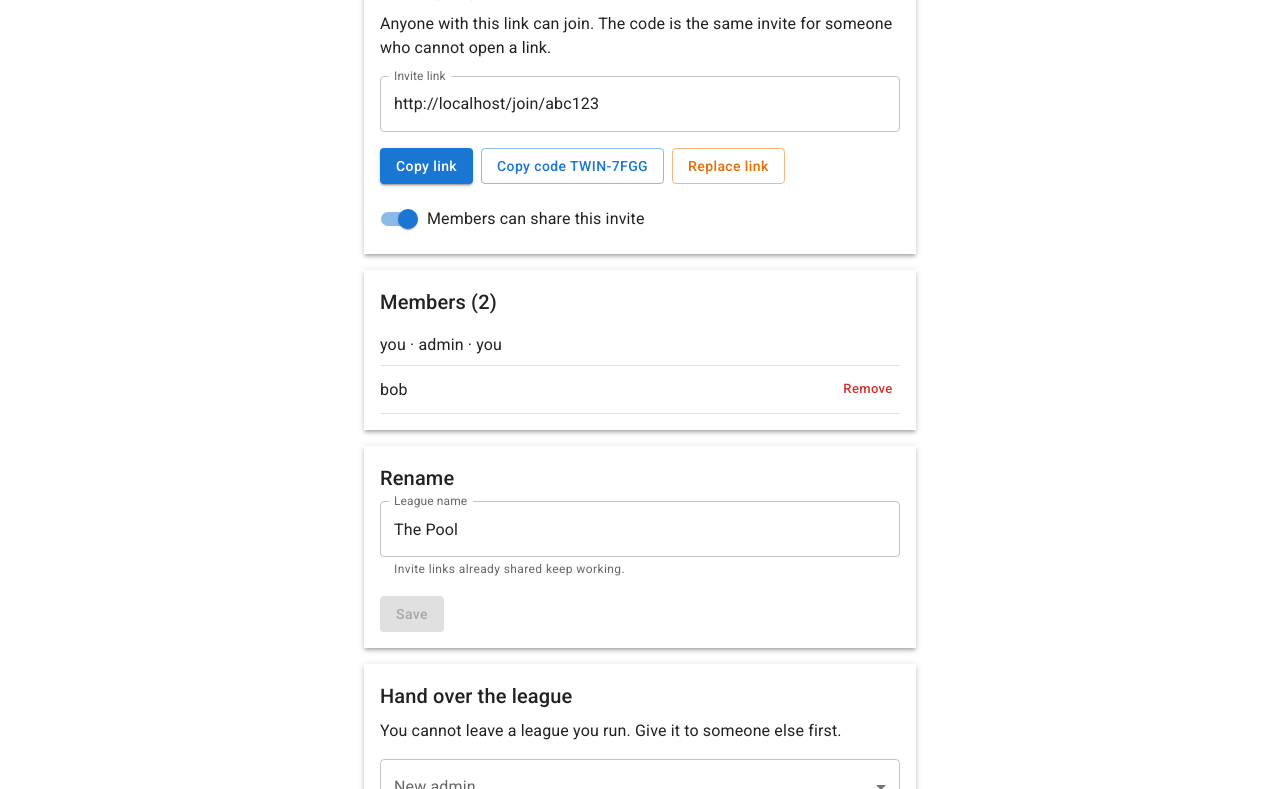
Test: removing someone › keeping them changes nothing
The width and height of the screenshot is (1280, 789).
(page scrolled)
Click the button "Remove" at (868, 390), box [836, 374, 900, 405]
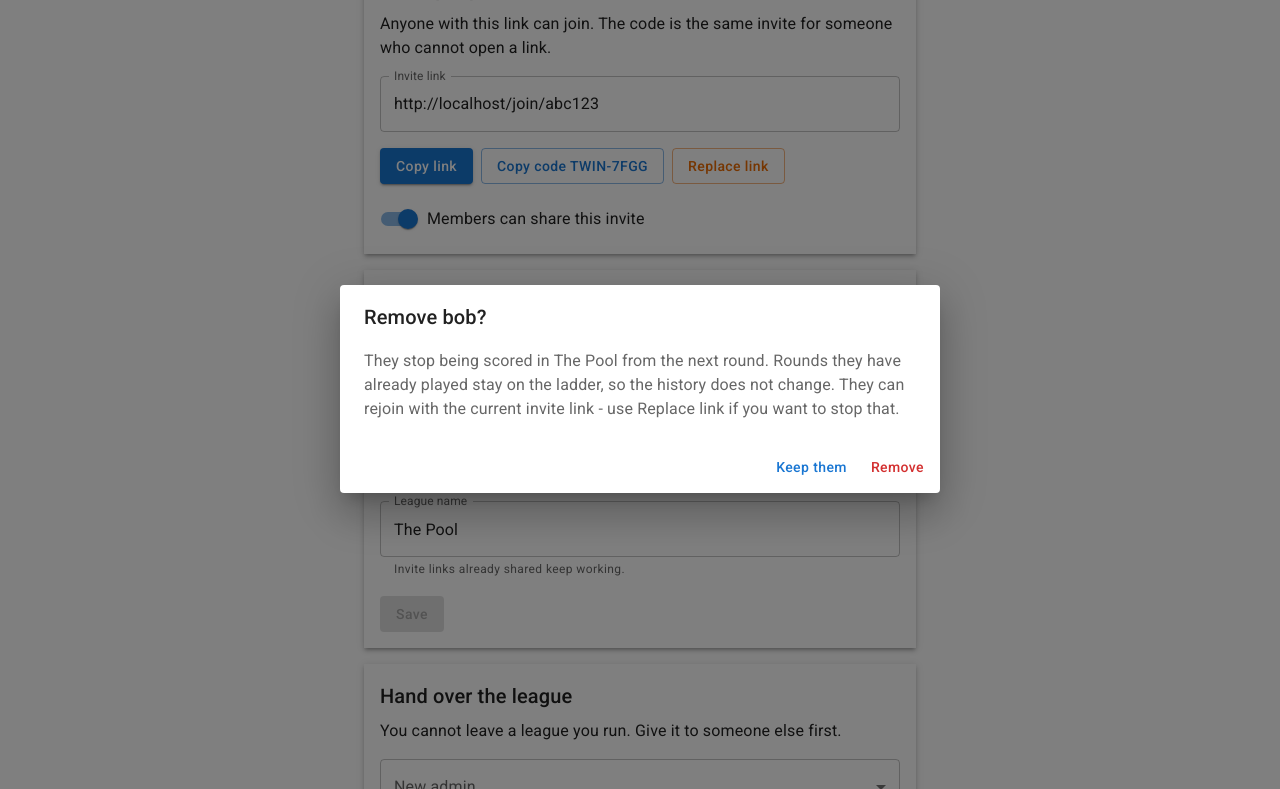
Click the button "Keep them" at (812, 467), box [768, 449, 855, 485]
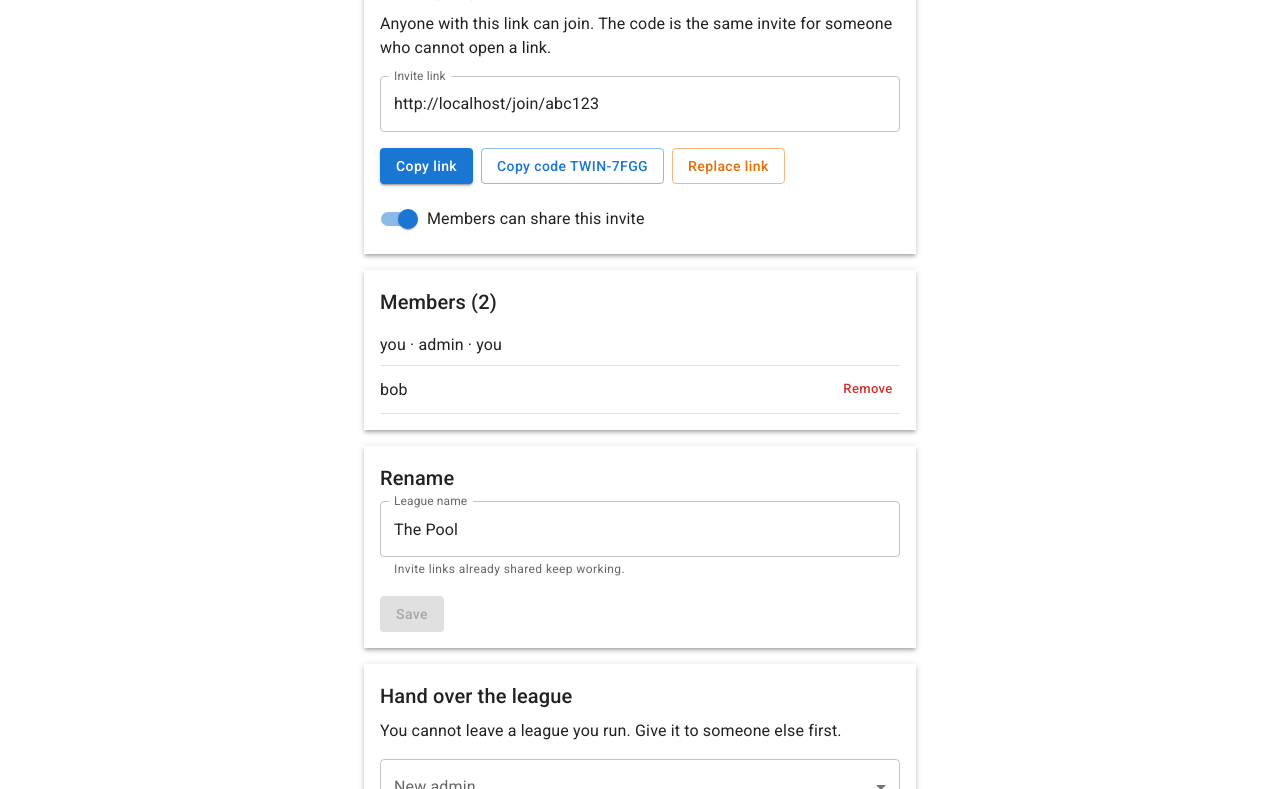
Expected: the dialog is gone
